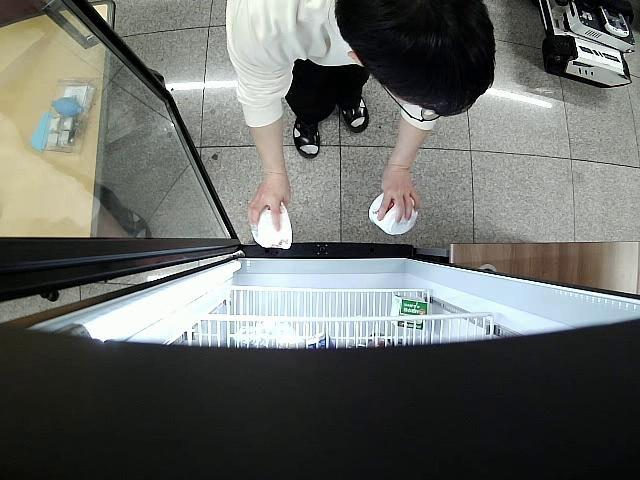09_yukGaeJang: (369, 192, 418, 236), (250, 201, 292, 252)
